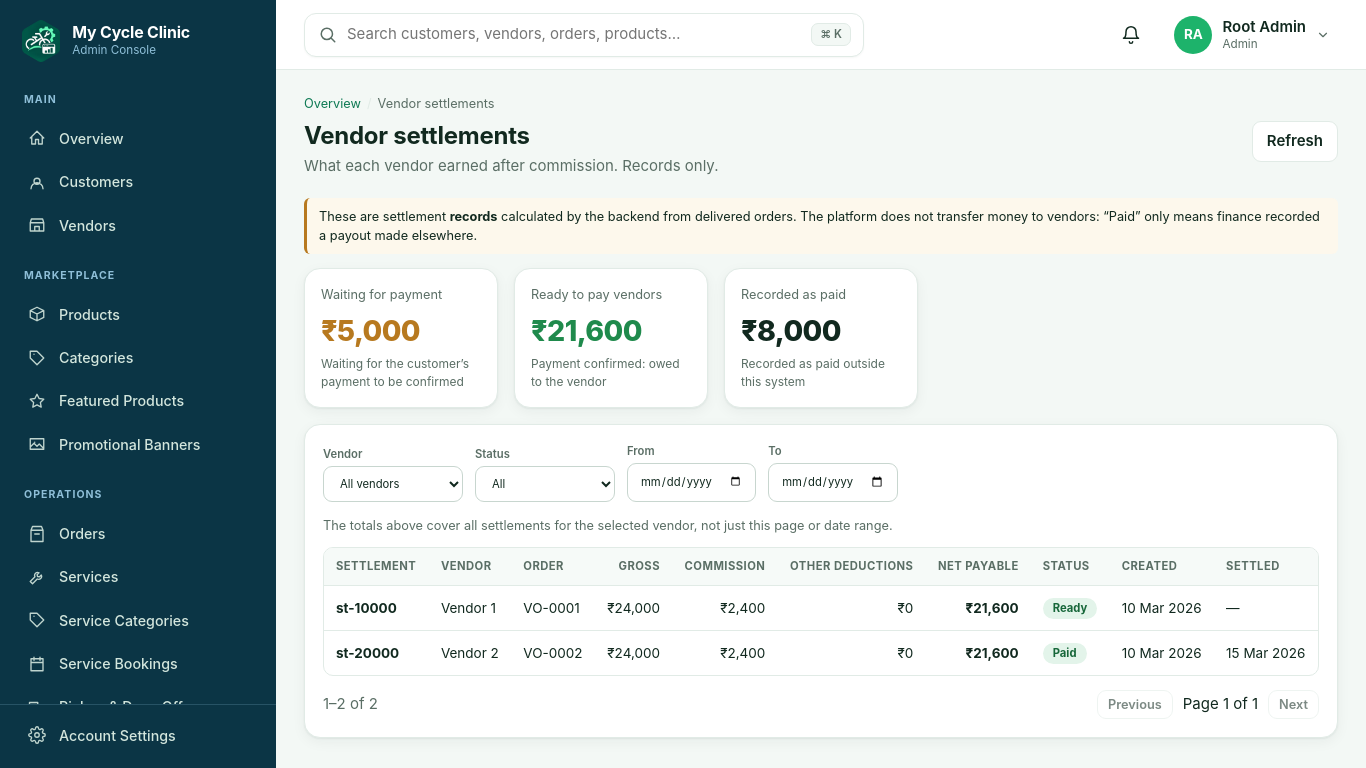
Test: vendor settlements › shows genuine records with gross, commission, deductions and net, filters, and offers no payout action
expect the text "Vendor 1" is shown: met, box [429,586,511,631]
expect the text "₹24,000" in the row of "st-10000" is shown: met, box [607,600,660,616]
Step 1. Select "Paid" in the dropdown labelled "Status" → (545, 484), box [475,466,615,502]
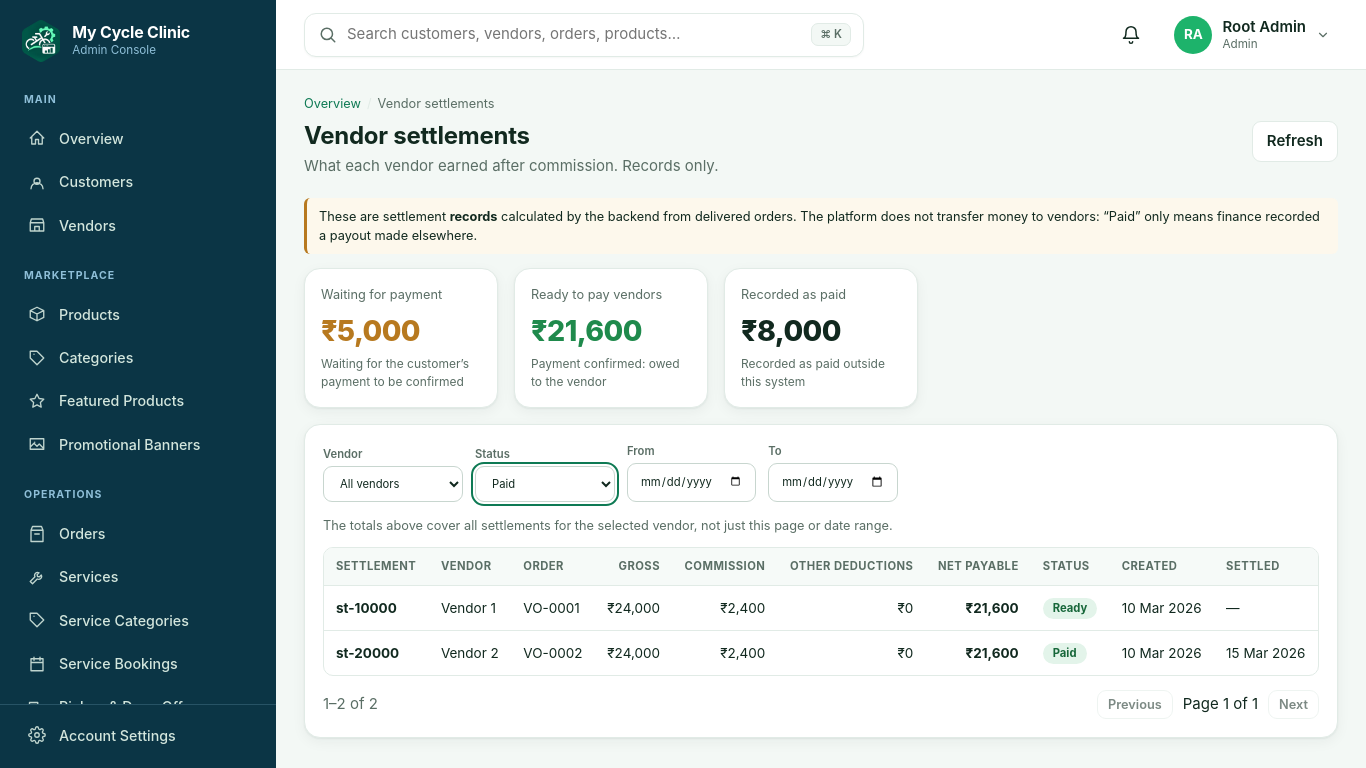
Step 2. Select "Alpha Cycles" in the dropdown labelled "Vendor" → (393, 484), box [323,466,463,502]
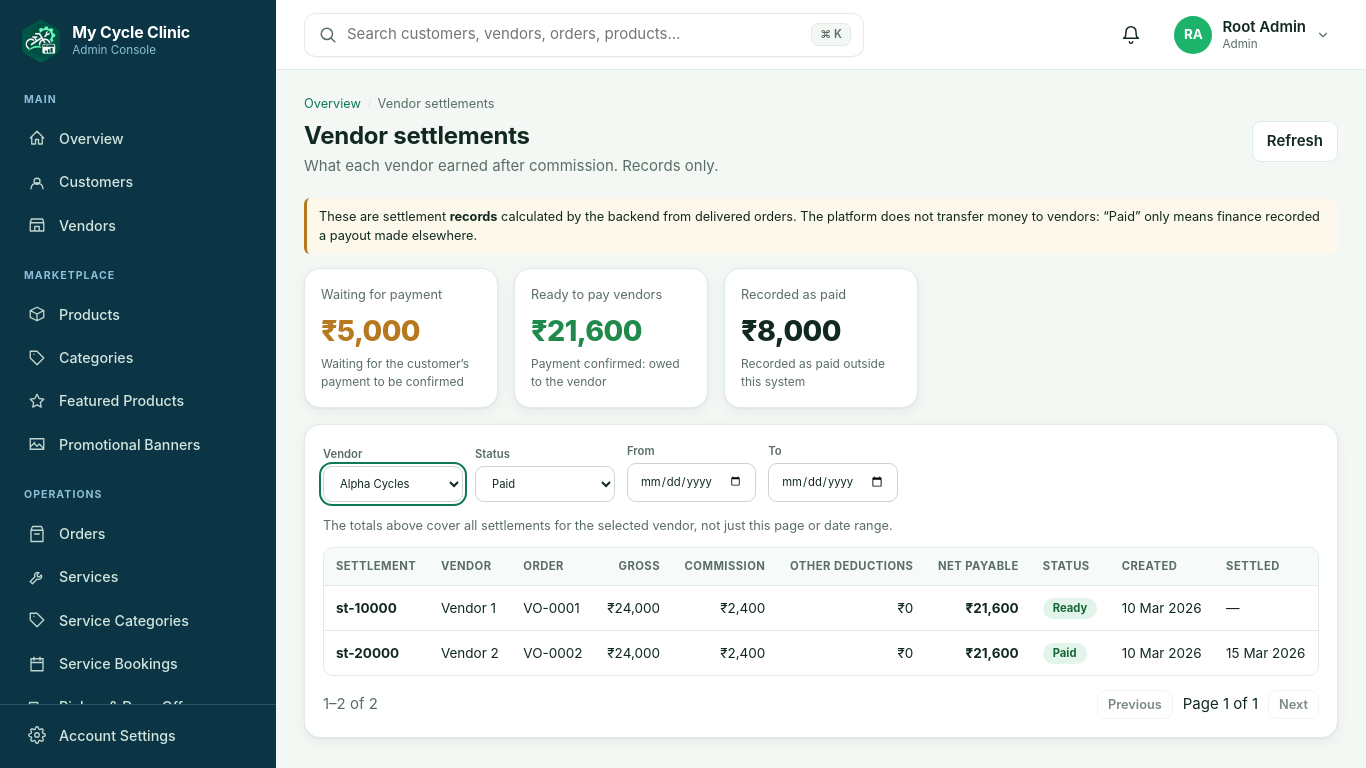
Step 3. Type "2026-03-01" into the date field labelled "From" → (692, 482), box [627,463,756,502]
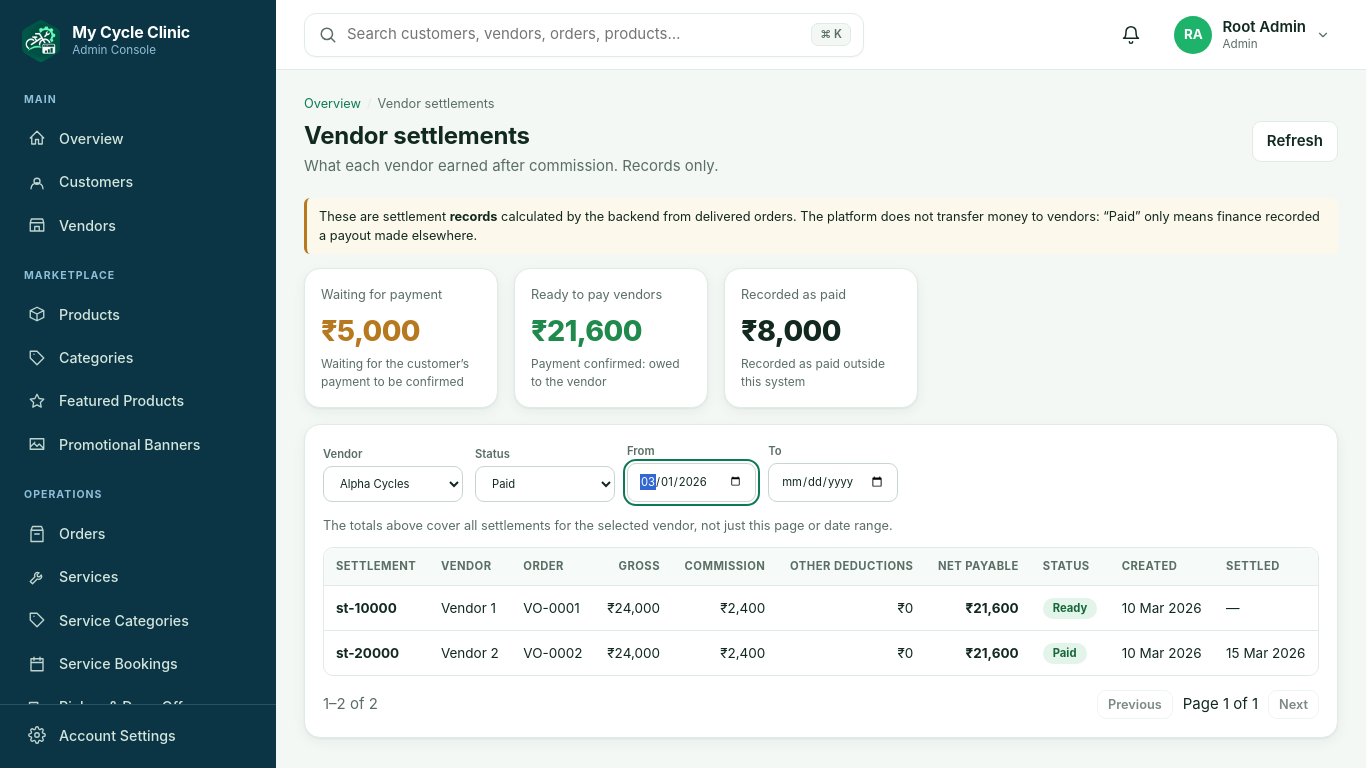
Step 4. Click the text "VO-0002" → click(553, 653), box [511,630,595,675]
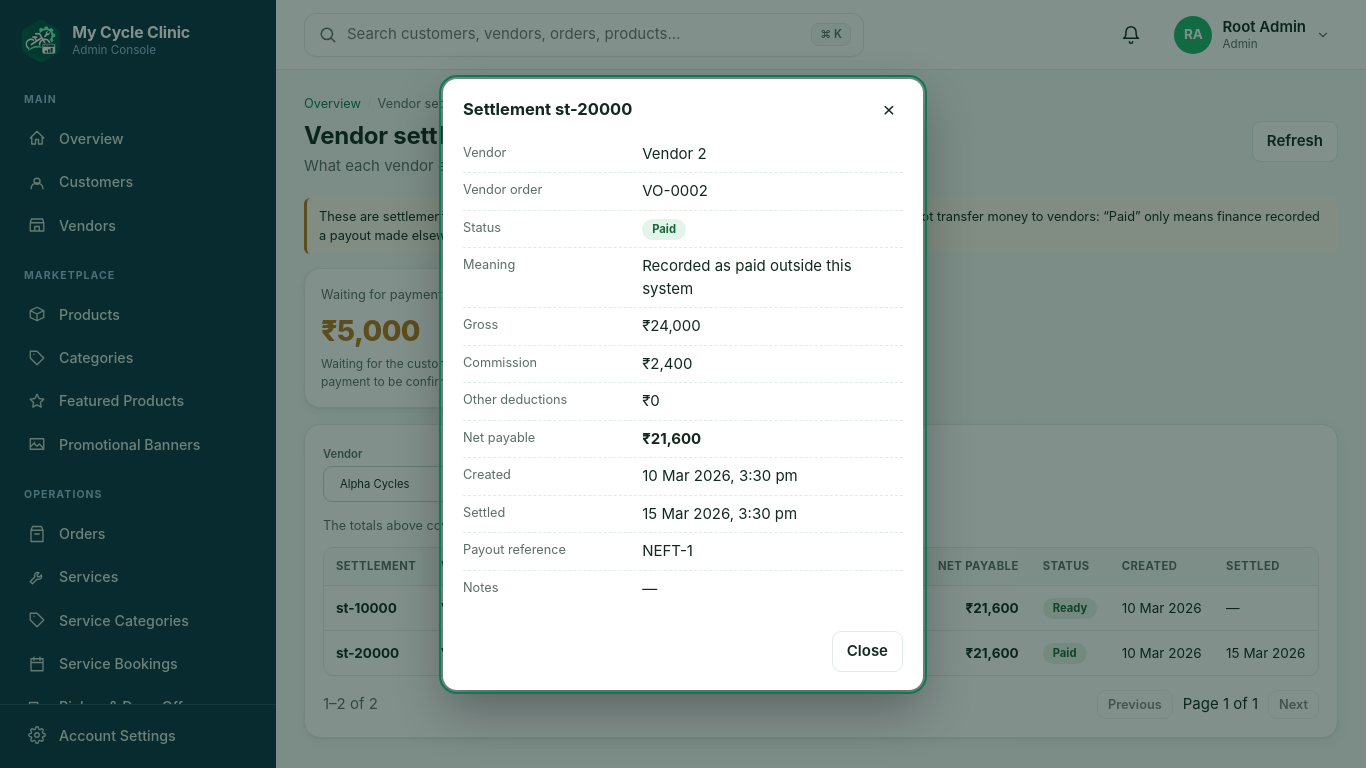
expect the text "NEFT-1" is shown: met, box [642,541,693,560]
